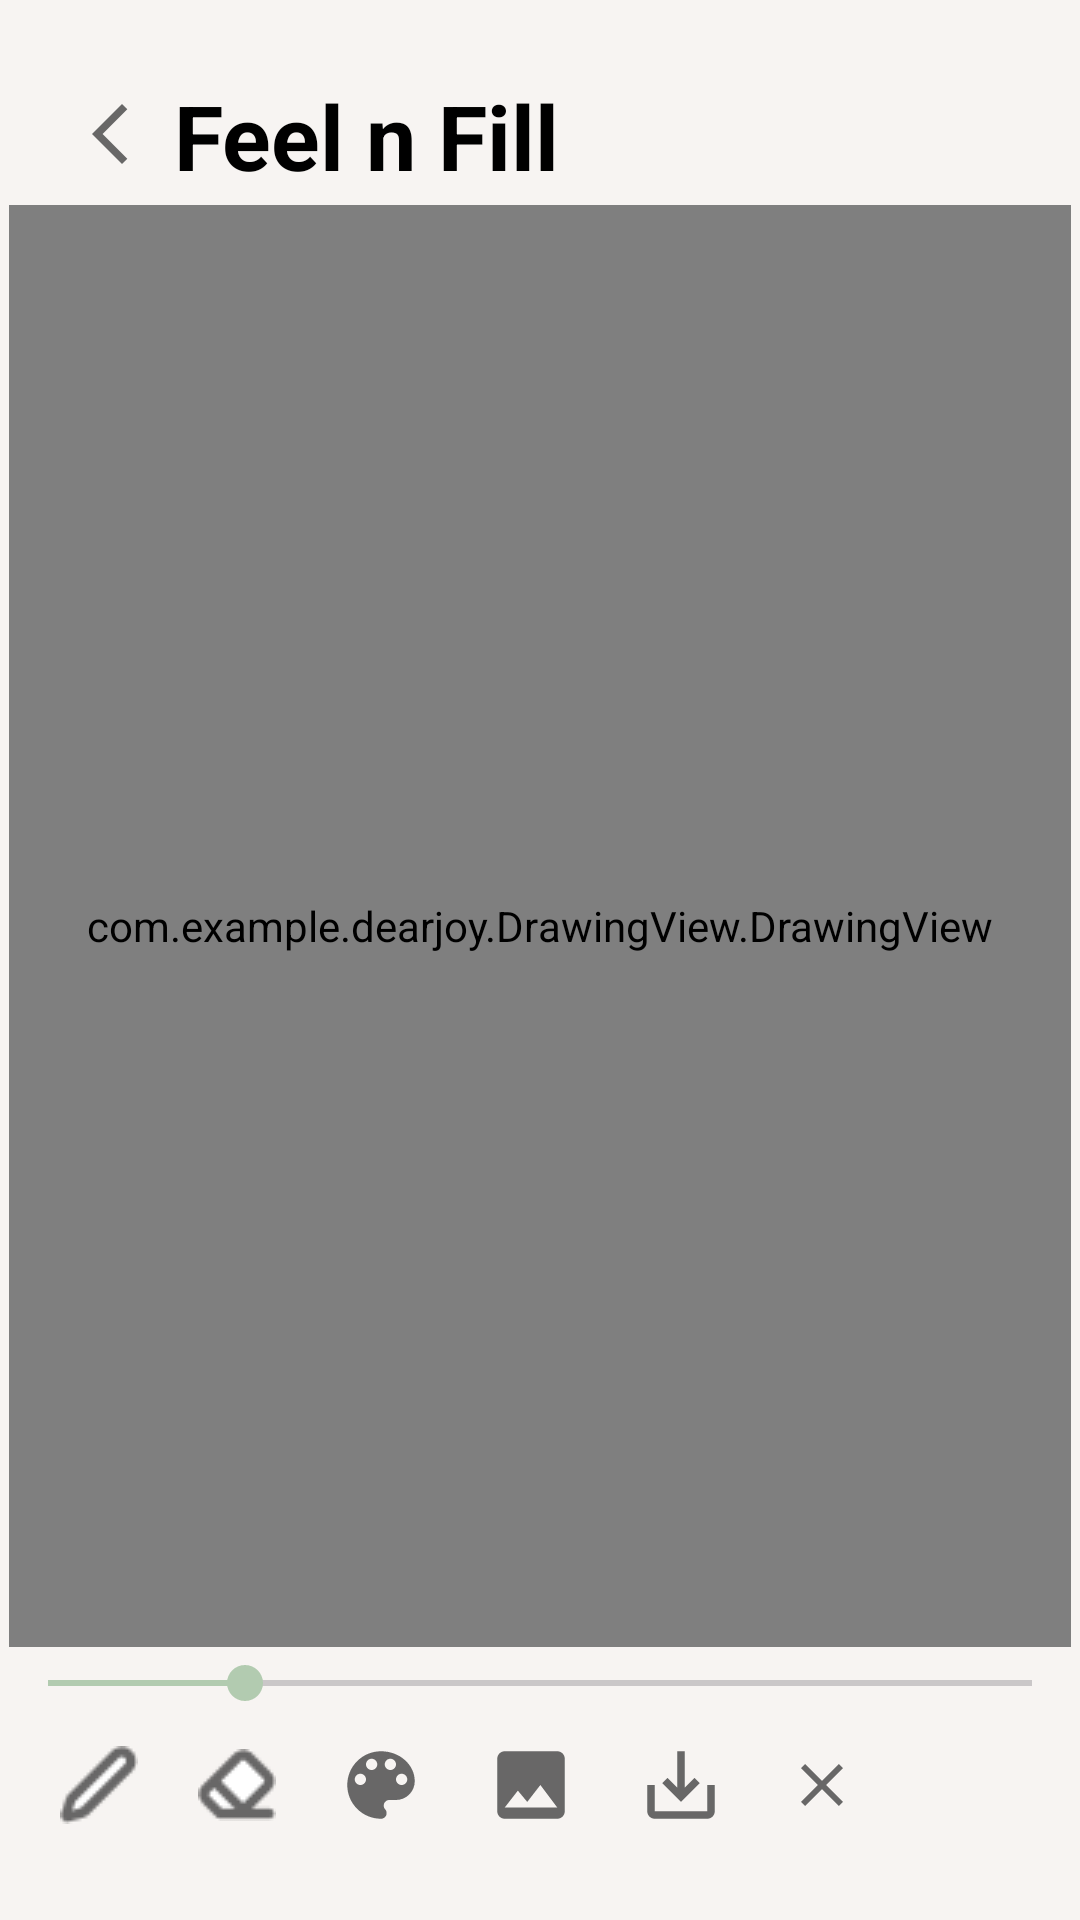

Icons on this 1080px×1920px Android screen, each with its box as (x1, y1, x2, y2):
Back button: (92, 104, 127, 164)
clear: (801, 1764, 843, 1806)
eraser: (198, 1749, 276, 1819)
pen: (60, 1746, 138, 1824)
save: (647, 1751, 715, 1819)
